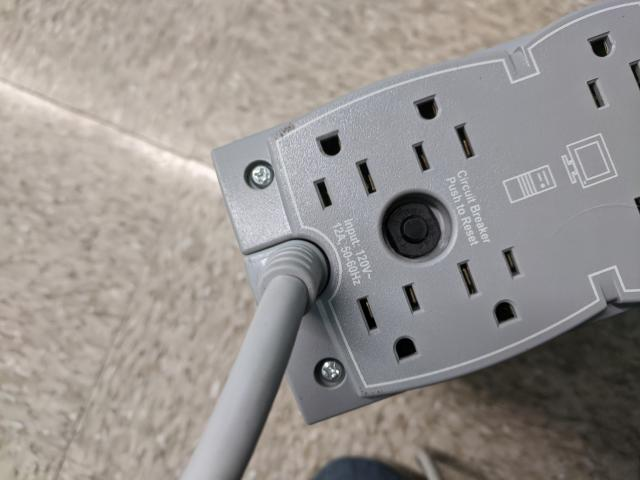CRS: (249, 162, 276, 190), (323, 358, 345, 384)
